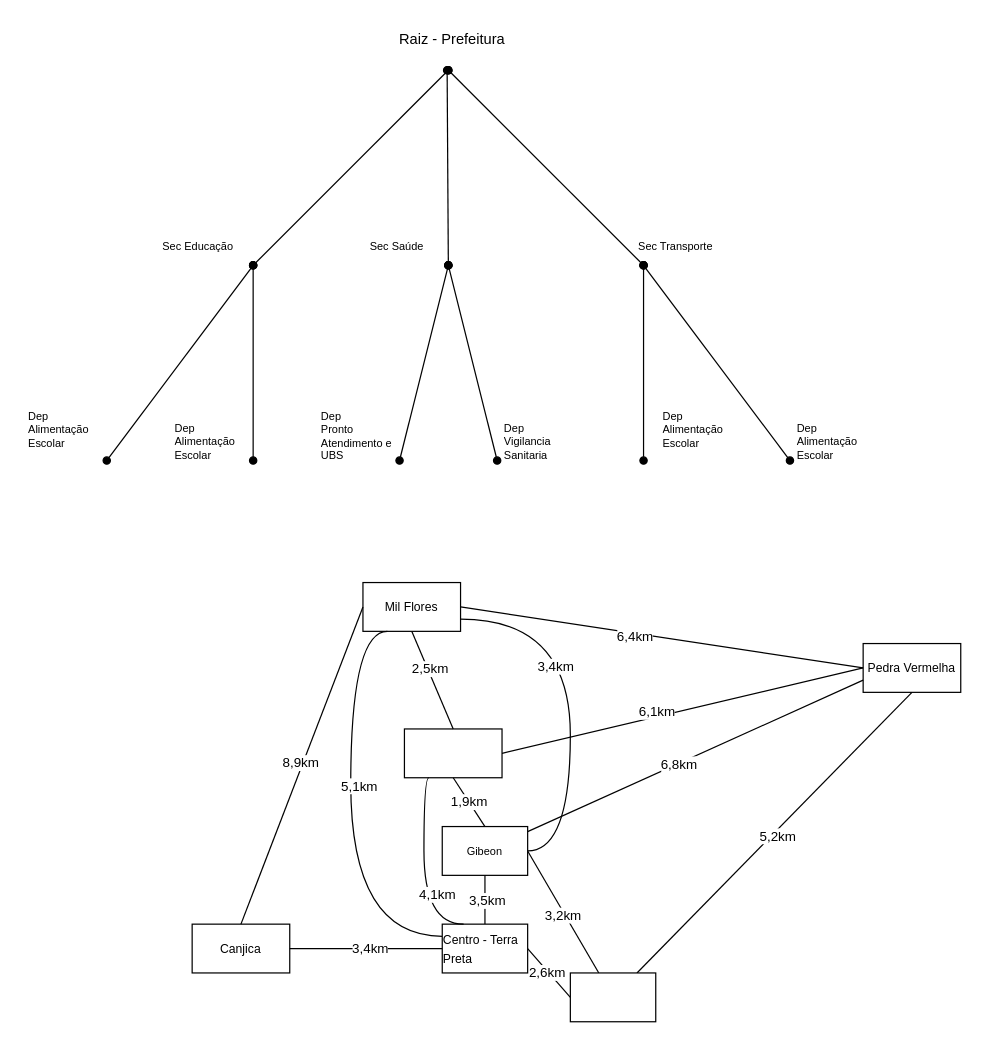
The diagram is 982 pixels wide and 1043 high, and some of its shapes have lost their labels. The shapes that lost their labels are listed below. From the top down, each one's centre as x and y in pixels, then its label:
At (452,753): "Sol Nascente".
At (612,997): "JD Lucia".
